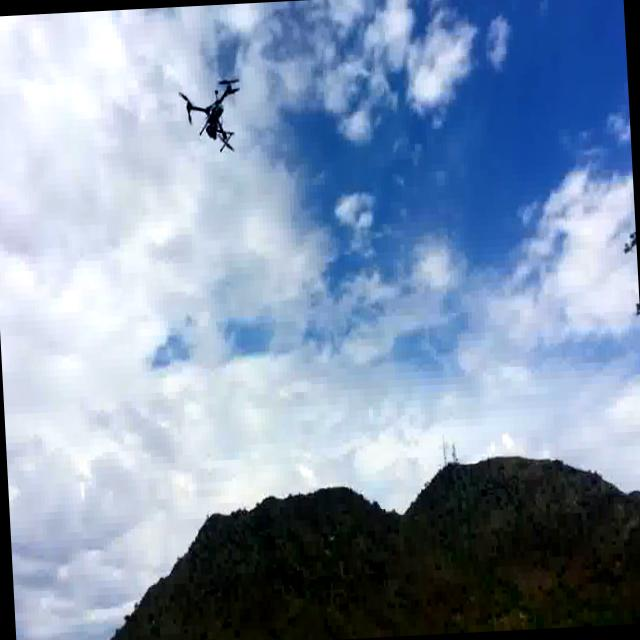drone: (176, 70, 242, 157)
